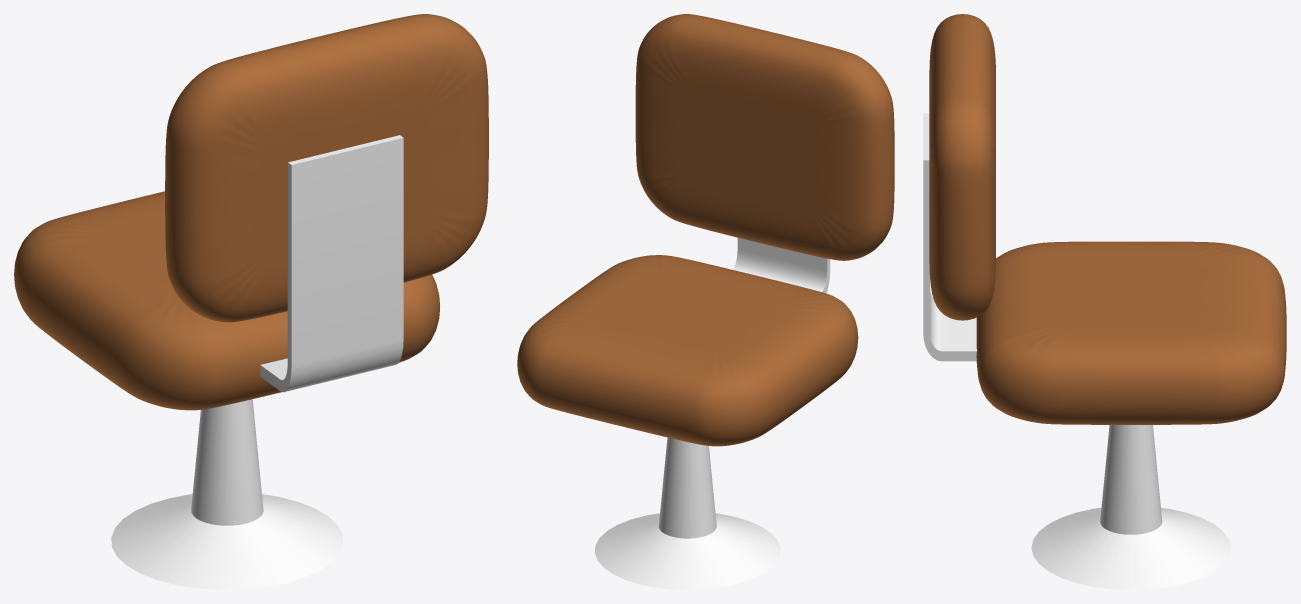
The picture shows the model from 3 angles, left to right: view 1: azimuth 30°, elevation 25°; view 2: azimuth 150°, elevation 25°; view 3: azimuth 270°, elevation 25°; orthographic projection. The views are drawn at different scales.
Visible parts, largest first — view 1: Cube.008, Cube.006, Cube.007, Cylinder; view 2: Cube.008, Cube.006, Cylinder, Cube.007; view 3: Cube.006, Cube.008, Cylinder, Cube.007.
Part boxes in pixels (left/top/right/bottom): Cube.008: left=165, top=14, right=488, bottom=322; Cube.006: left=14, top=191, right=439, bottom=410; Cube.007: left=260, top=135, right=403, bottom=392; Cylinder: left=111, top=399, right=343, bottom=589; Cube.008: left=635, top=14, right=894, bottom=260; Cube.006: left=517, top=255, right=858, bottom=446; Cylinder: left=594, top=437, right=780, bottom=589; Cube.007: left=733, top=238, right=830, bottom=293; Cube.006: left=976, top=241, right=1286, bottom=424; Cube.008: left=929, top=14, right=995, bottom=320; Cylinder: left=1031, top=425, right=1230, bottom=589; Cube.007: left=923, top=113, right=976, bottom=361.
Bounding box in the file's own units: 0.7035 × 1.22 × 0.819.
